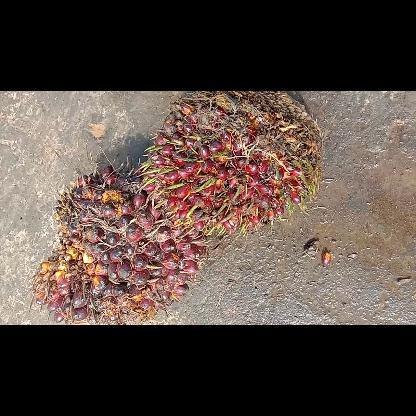Kurang masak: (135, 90, 321, 240)
TBS masak: (30, 160, 206, 324)
